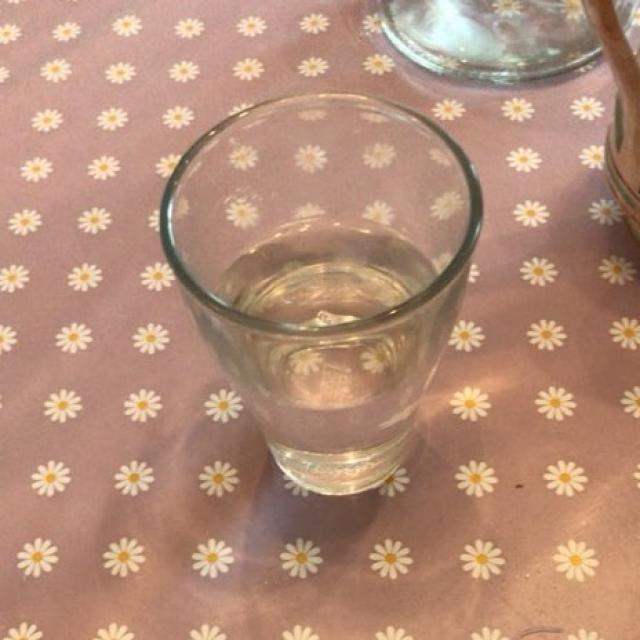water: (235, 260, 417, 318)
